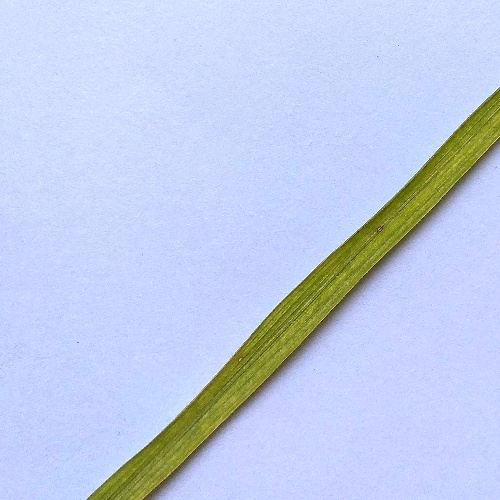Busuk Leher: (372, 222, 388, 237)
